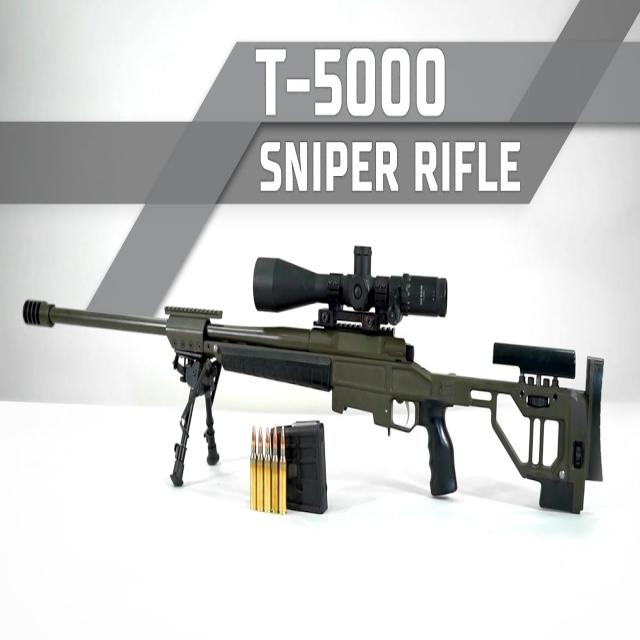Rifle: (23, 246, 605, 514)
